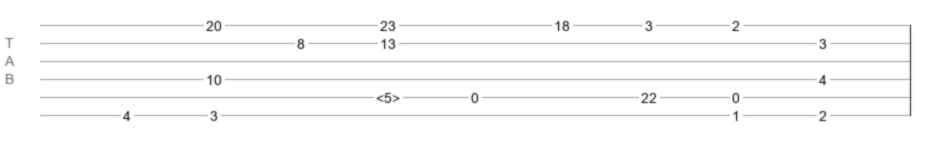0: (471, 90, 479, 100), (732, 90, 740, 100)
1: (732, 108, 740, 118)
10: (206, 72, 222, 82)
13: (380, 36, 396, 46)
18: (554, 18, 570, 28)
2: (732, 18, 740, 28), (819, 108, 827, 118)
20: (206, 18, 222, 28)
22: (641, 90, 657, 100)
23: (380, 18, 396, 28)
3: (210, 108, 218, 118), (645, 18, 653, 28), (819, 36, 827, 46)
4: (123, 108, 131, 118), (819, 72, 827, 82)
8: (297, 36, 305, 46)
harmonic: (376, 90, 400, 100)
